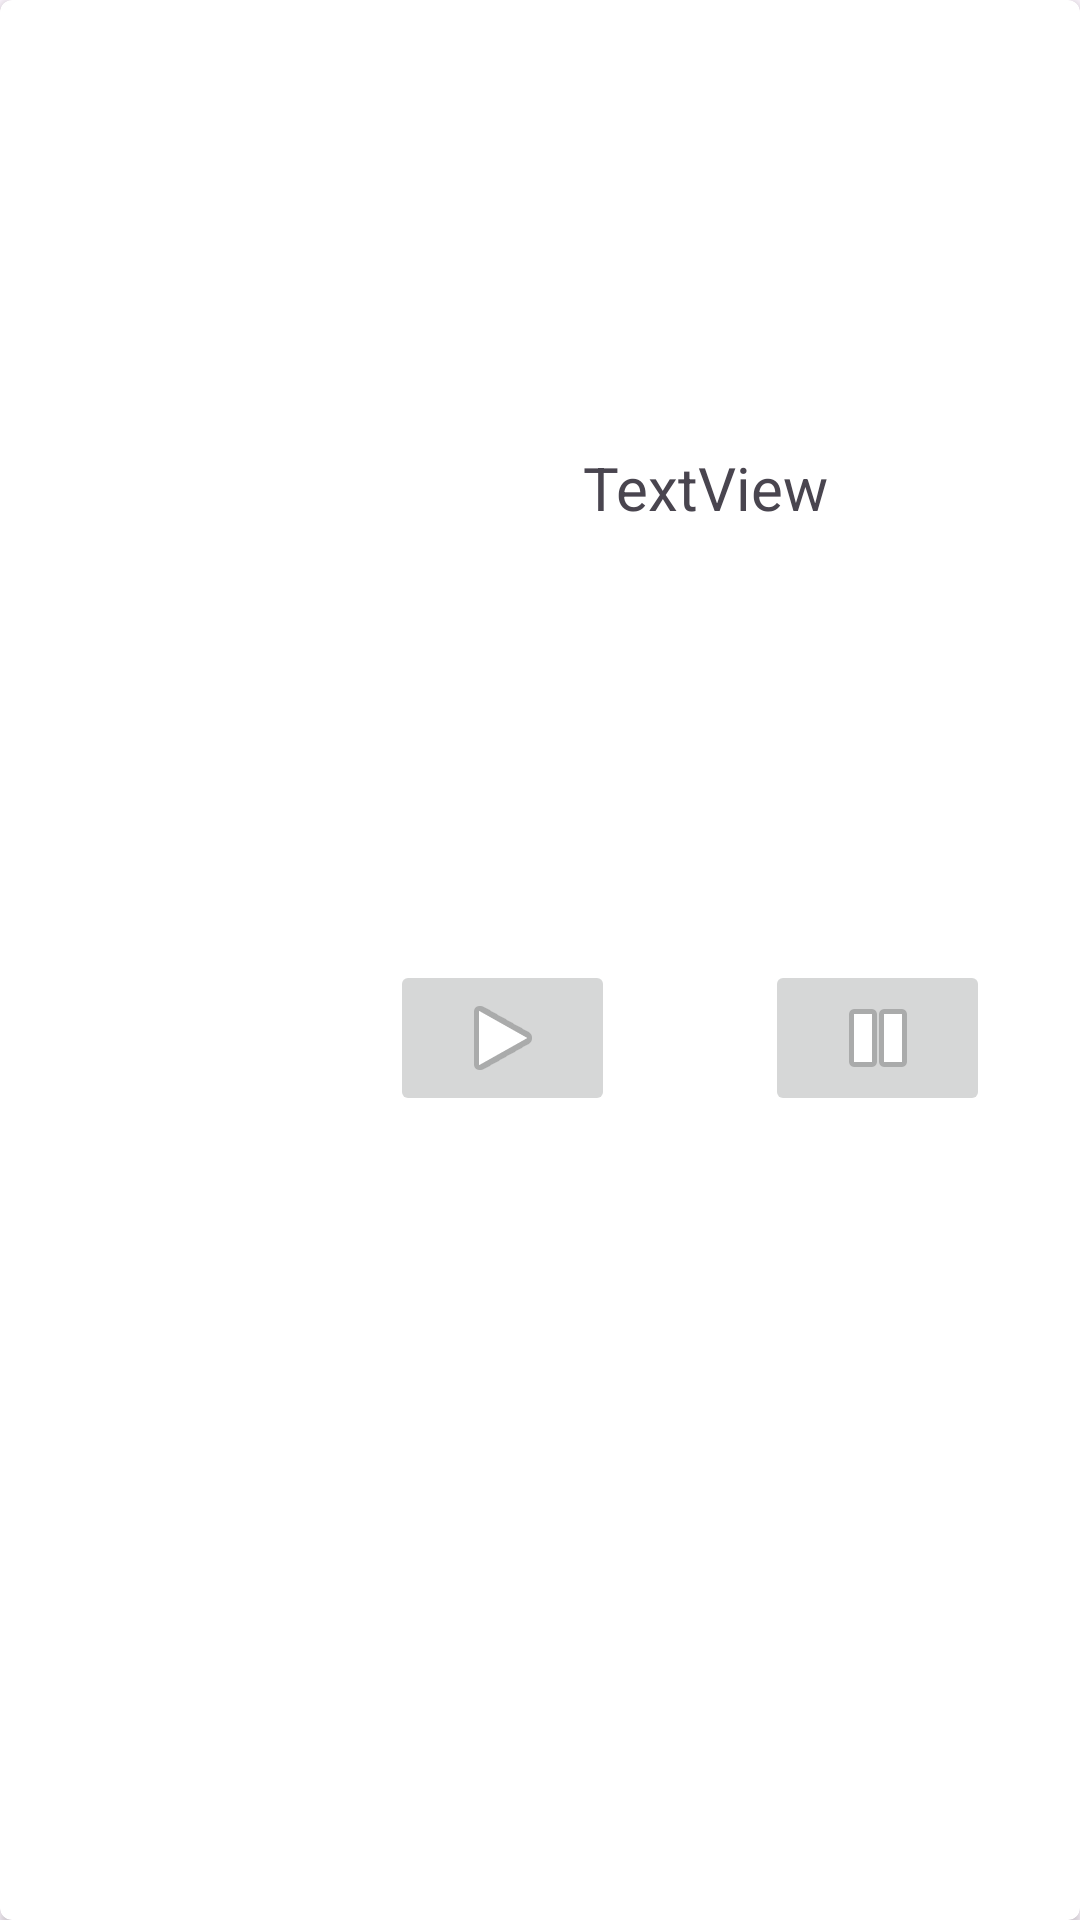

Named icons in this screenshot (1080w x 1920h) and their centers, point (x, y):
pause: point (877, 1038)
play: point (502, 1038)
